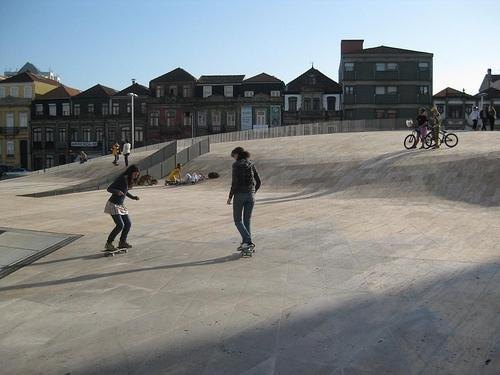bicycle: (425, 123, 459, 149), (403, 125, 424, 149)
